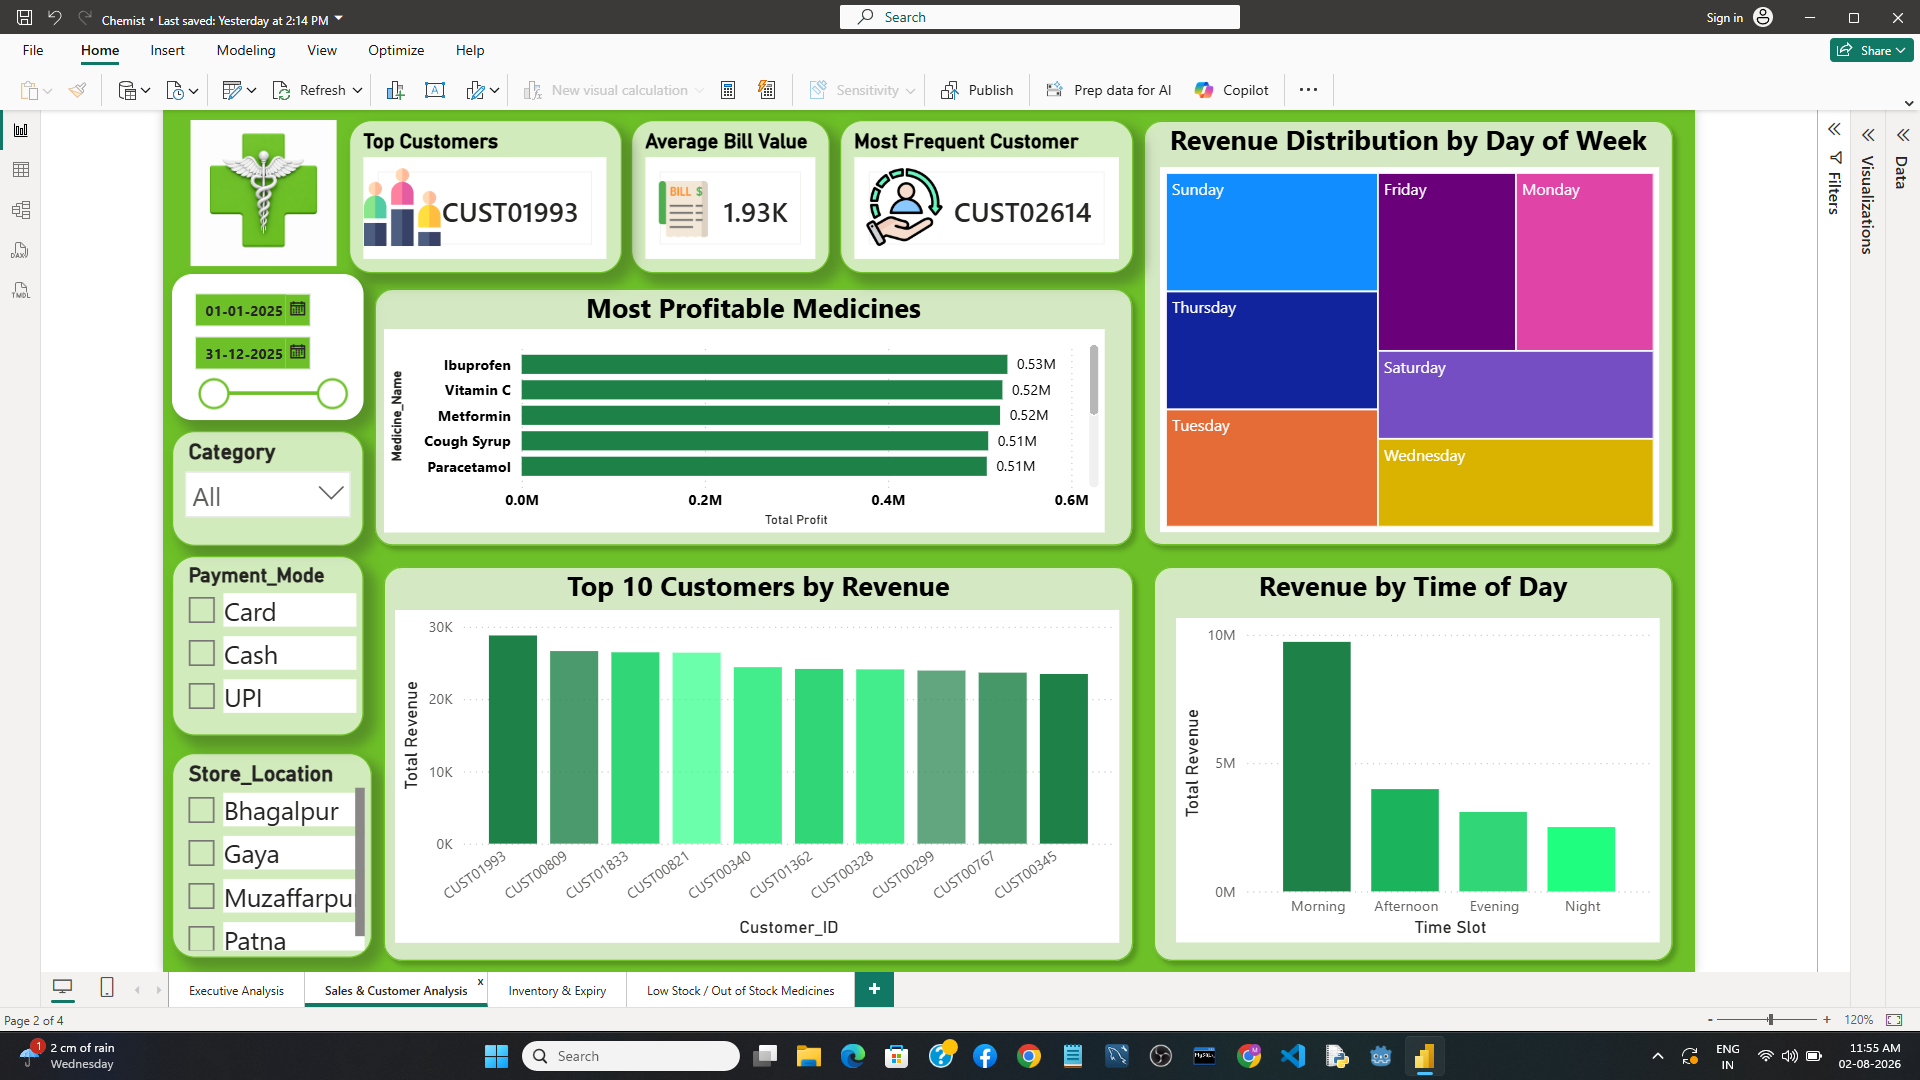

This screenshot's page, from the dashboard's own definition file:
{"tool":"powerbi","page":{"name":"Sales & Customer Analysis","canvas":[1280,720],"ordinal":1},"visuals":[{"type":"image","box":[0,8.8,168.3,121.6],"z":0},{"type":"slicer","fields":{"Values":["Chemist_Shop_Dataset_2025_10000_Rows.Date"]},"box":[7.8,137.1,160.5,121.6],"z":1000},{"type":"slicer","fields":{"Values":["Chemist_Shop_Dataset_2025_10000_Rows.Store_Location"]},"box":[7.8,536.9,167.3,171.2],"z":2000},{"type":"slicer","fields":{"Values":["Chemist_Shop_Dataset_2025_10000_Rows.Category"]},"box":[7.8,268.4,160.5,96.3],"z":3000},{"type":"slicer","fields":{"Values":["Chemist_Shop_Dataset_2025_10000_Rows.Payment_Mode"]},"box":[7.8,372.5,160.5,149.8],"z":4000},{"type":"cardVisual","title":"Average Bill Value","fields":{"Data":["Chemist_Shop_Dataset_2025_10000_Rows.Average Bill Value"]},"box":[391,8.8,166.3,128.4],"z":6000},{"type":"shape","box":[175.1,372.5,643.9,347.2],"z":7000},{"type":"clusteredColumnChart","fields":{"Category":["Chemist_Shop_Dataset_2025_10000_Rows.Customer_ID"],"Y":["Chemist_Shop_Dataset_2025_10000_Rows.Total Revenue"]},"box":[193.6,417.3,605,278.2],"z":8000},{"type":"shape","box":[810.2,0,460.1,372.5],"z":9000},{"type":"shape","box":[168.3,140.1,650.7,232.5],"z":10000},{"type":"shape","box":[819,372.5,451.3,347.2],"z":11000},{"type":"clusteredBarChart","fields":{"Y":["Chemist_Shop_Dataset_2025_10000_Rows.Total Profit"],"Category":["Chemist_Shop_Dataset_2025_10000_Rows.Medicine_Name"]},"box":[184.8,182.9,602.1,170.2],"z":12000},{"type":"treemap","fields":{"Group":["Chemist_Shop_Dataset_2025_10000_Rows.Day Name"],"Values":["Chemist_Shop_Dataset_2025_10000_Rows.Total Revenue"]},"box":[832.6,47.7,417.3,305.4],"z":13000},{"type":"clusteredColumnChart","fields":{"Y":["Chemist_Shop_Dataset_2025_10000_Rows.Total Revenue"],"Category":["Chemist_Shop_Dataset_2025_10000_Rows.Time Slot"]},"box":[846.2,424.1,403.6,271.4],"z":14000},{"type":"image","box":[410.5,59.3,48.6,46.7],"z":15000},{"type":"cardVisual","title":"Top Customers","fields":{"Data":["Chemist_Shop_Dataset_2025_10000_Rows.Top Customer"]},"box":[155.6,8.8,227.6,128.4],"z":19000},{"type":"cardVisual","title":"Most Frequent Customer","fields":{"Data":["Chemist_Shop_Dataset_2025_10000_Rows.Most Frequent Customer"]},"box":[565.1,8.8,245.1,128.4],"z":21000},{"type":"image","box":[578.7,47.7,80.7,67.1],"z":21001},{"type":"image","box":[168.3,47.7,64.2,67.1],"z":21002}]}

Visuals, with their boxes on the page's 1280x720 design canvas (x1, y1, x2, y2). These are canvas units, not pixel positions in the 1920x1080 screenshot, which may show the page scaled, cropped or inside an application window:
image: {"x1": 0, "y1": 9, "x2": 168, "y2": 130}
slicer - Chemist_Shop_Dataset_2025_10000_Rows.Date: {"x1": 8, "y1": 137, "x2": 168, "y2": 259}
slicer - Chemist_Shop_Dataset_2025_10000_Rows.Store_Location: {"x1": 8, "y1": 537, "x2": 175, "y2": 708}
slicer - Chemist_Shop_Dataset_2025_10000_Rows.Category: {"x1": 8, "y1": 268, "x2": 168, "y2": 365}
slicer - Chemist_Shop_Dataset_2025_10000_Rows.Payment_Mode: {"x1": 8, "y1": 372, "x2": 168, "y2": 522}
"Average Bill Value" cardVisual: {"x1": 391, "y1": 9, "x2": 557, "y2": 137}
shape: {"x1": 175, "y1": 372, "x2": 819, "y2": 720}
clusteredColumnChart - Chemist_Shop_Dataset_2025_10000_Rows.Customer_ID x Chemist_Shop_Dataset_2025_10000_Rows.Total Revenue: {"x1": 194, "y1": 417, "x2": 799, "y2": 696}
shape: {"x1": 810, "y1": 0, "x2": 1270, "y2": 372}
shape: {"x1": 168, "y1": 140, "x2": 819, "y2": 373}
shape: {"x1": 819, "y1": 372, "x2": 1270, "y2": 720}
clusteredBarChart - Chemist_Shop_Dataset_2025_10000_Rows.Total Profit x Chemist_Shop_Dataset_2025_10000_Rows.Medicine_Name: {"x1": 185, "y1": 183, "x2": 787, "y2": 353}
treemap - Chemist_Shop_Dataset_2025_10000_Rows.Day Name x Chemist_Shop_Dataset_2025_10000_Rows.Total Revenue: {"x1": 833, "y1": 48, "x2": 1250, "y2": 353}
clusteredColumnChart - Chemist_Shop_Dataset_2025_10000_Rows.Total Revenue x Chemist_Shop_Dataset_2025_10000_Rows.Time Slot: {"x1": 846, "y1": 424, "x2": 1250, "y2": 696}
image: {"x1": 410, "y1": 59, "x2": 459, "y2": 106}
"Top Customers" cardVisual: {"x1": 156, "y1": 9, "x2": 383, "y2": 137}
"Most Frequent Customer" cardVisual: {"x1": 565, "y1": 9, "x2": 810, "y2": 137}
image: {"x1": 579, "y1": 48, "x2": 659, "y2": 115}
image: {"x1": 168, "y1": 48, "x2": 232, "y2": 115}
